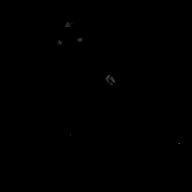v: (53, 19, 81, 44)
